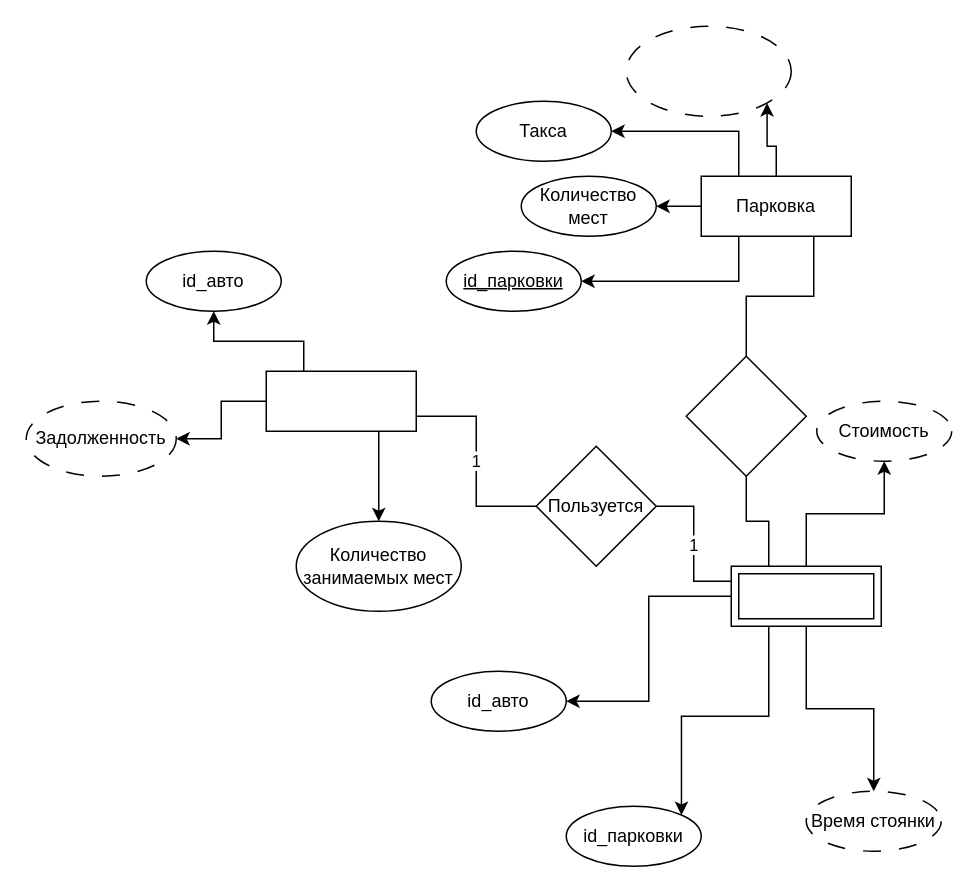
This 978x893 diagram has some shape labels left out. The shapes that lost their labels are listed below. From the top down, each one's centre as x and y in pixels, then its label:
At point (708, 70): "Количество свободных мест".
At point (340, 400): "Авто".
At point (745, 415): "Предоставляет".
At point (805, 595): "Услуга".
